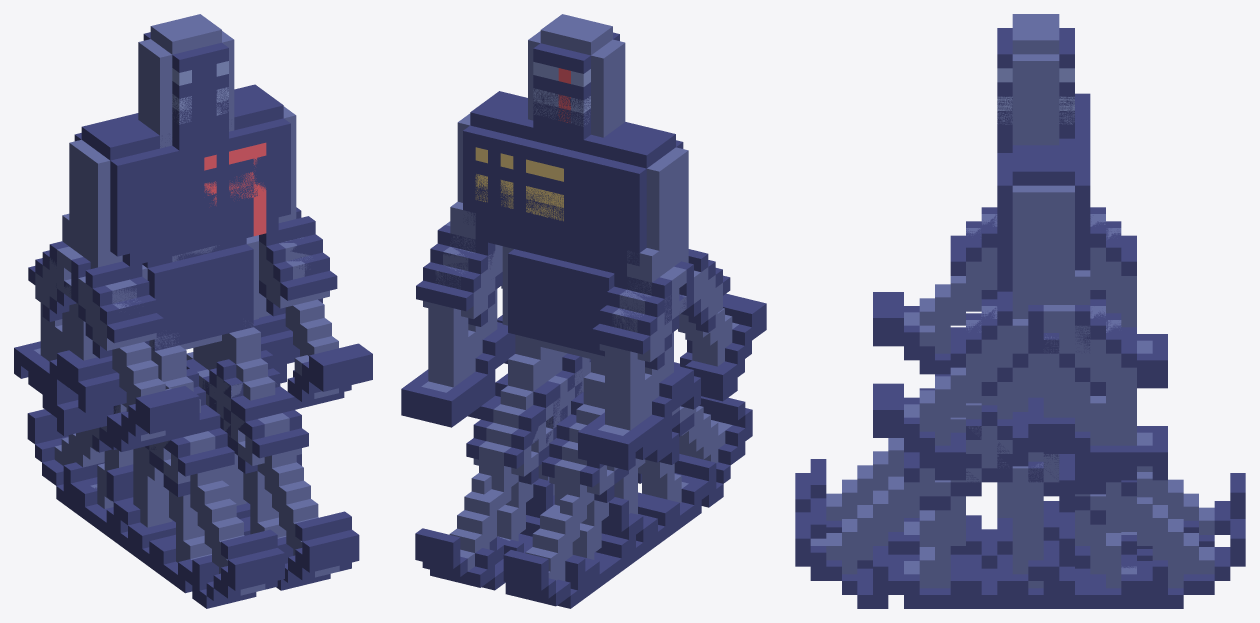
Rendered from walk.fbx.
3 renders of one model, left to right at view 1: azimuth 30°, elevation 25°; view 2: azimuth 150°, elevation 25°; view 3: azimuth 270°, elevation 25°, orthographic. The views are drawn at different scales.
Visible parts, largest first — view 1: 4, 6, 7, 2, 3, 00; view 2: 4, 7, 6, 2, 3, 00; view 3: 7, 6, 4, 2, 3, 00.
Part boxes in pixels (<box>): 4: <box>49,14,301,576</box>; 6: <box>27,79,359,590</box>; 7: <box>63,65,293,563</box>; 2: <box>14,163,372,608</box>; 3: <box>28,151,351,593</box>; 00: <box>69,110,296,575</box>; 4: <box>437,14,700,560</box>; 7: <box>416,66,759,592</box>; 6: <box>401,82,766,608</box>; 2: <box>415,188,752,590</box>; 3: <box>457,175,716,564</box>; 00: <box>459,115,688,544</box>; 7: <box>873,82,1152,608</box>; 6: <box>795,103,1245,608</box>; 4: <box>950,14,1090,608</box>; 2: <box>795,210,1245,608</box>; 3: <box>888,207,1167,608</box>; 00: <box>952,176,1074,608</box>.
Size of the model in its own units: 18 by 39 by 29.
Materials: 8 (8 with a texture image).
